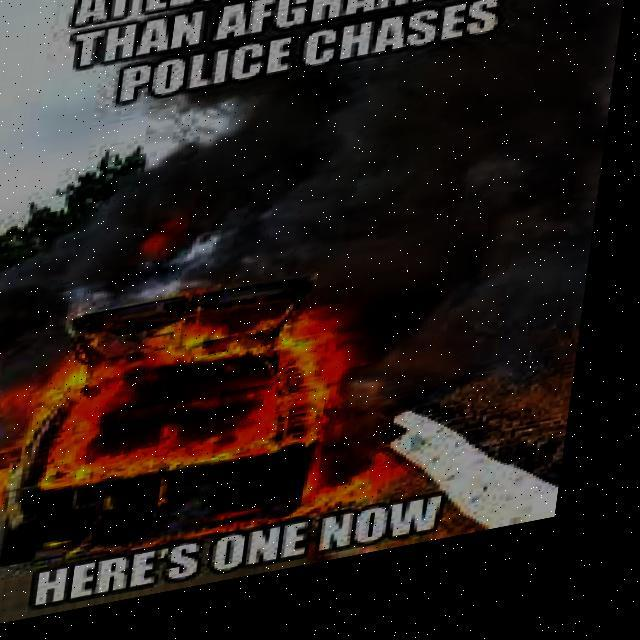Fire: (0, 275, 436, 590)
